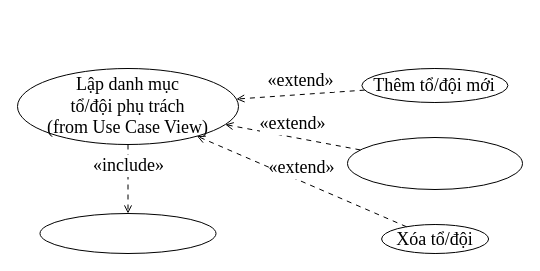
This 540x271 diagram has some shape labels left out. The centre of each missing label's shape, as x and y in pixels:
"Cập nhật khu vực phụ trách" goes at (434,163).
"Xem danh sách tổ/đội" goes at (127,233).
